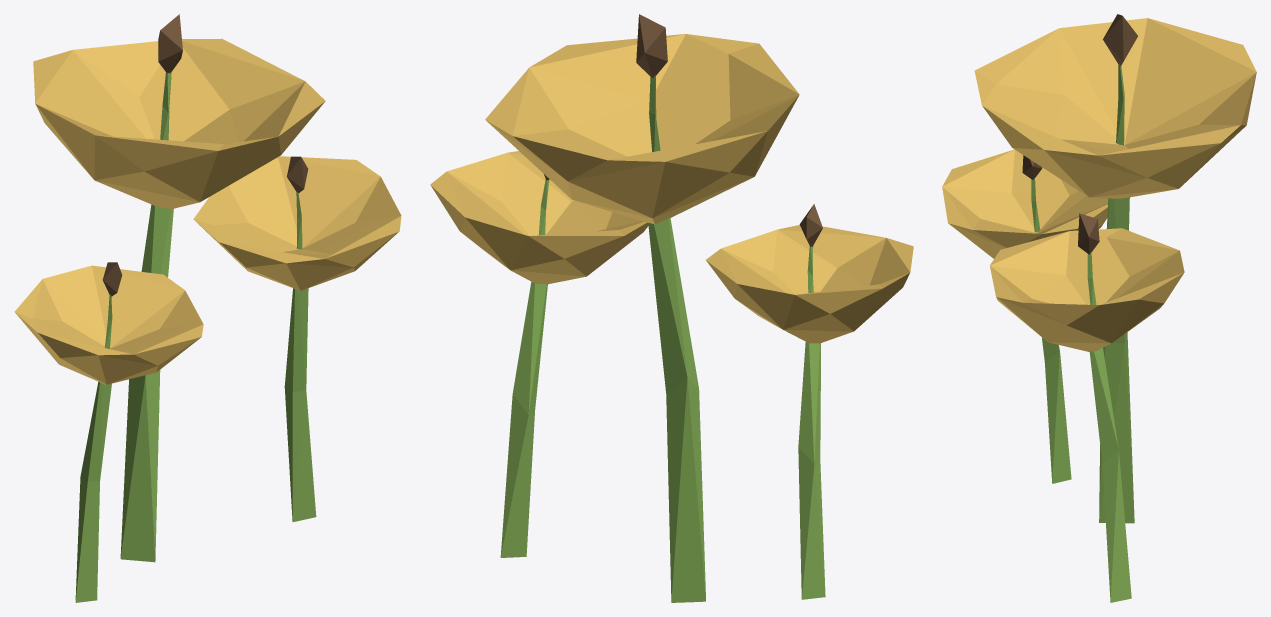
File: Flower_03.fbx
3 views of the same model, side by side, from view 1: azimuth 30°, elevation 25°; view 2: azimuth 150°, elevation 25°; view 3: azimuth 270°, elevation 25° (orthographic). The views are drawn at different scales.
Visible parts, largest first — view 1: Flower_03; view 2: Flower_03; view 3: Flower_03.
Part boxes in pixels (x1,y1,x2,y2): Flower_03: [14, 14, 401, 602]; Flower_03: [430, 14, 913, 602]; Flower_03: [942, 14, 1256, 602].
Bounding box in the file's own units: 0.1795 × 0.2361 × 0.1282.
